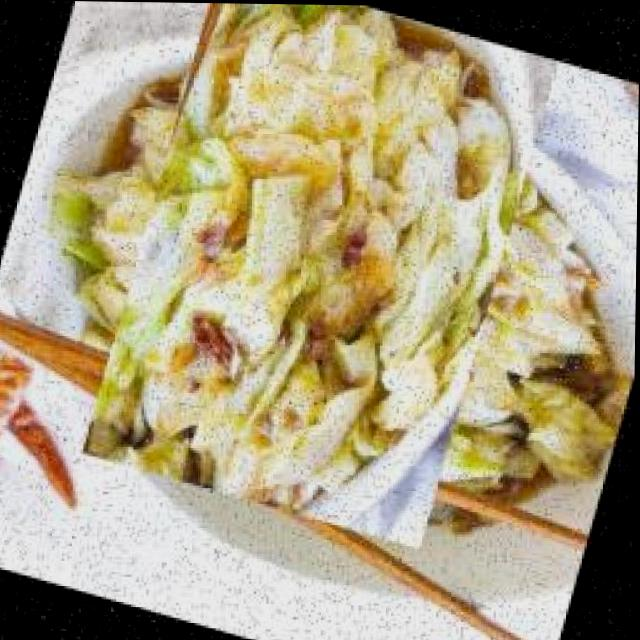chinese_cabbage: (52, 1, 601, 517)
